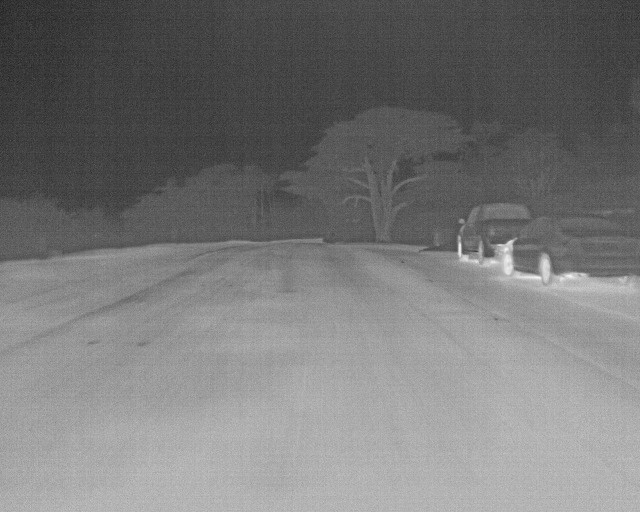vehicle: (505, 214, 638, 288), (456, 200, 530, 264)
